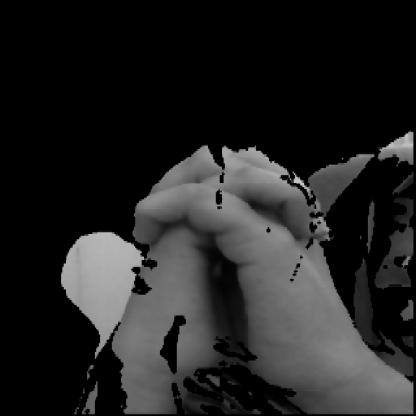prayer: (105, 130, 348, 400)
